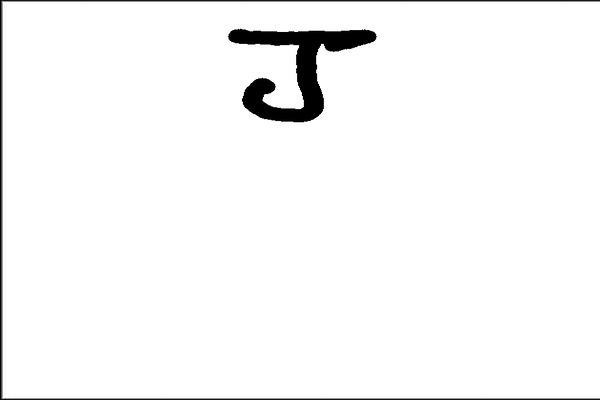J: (220, 19, 382, 134)
